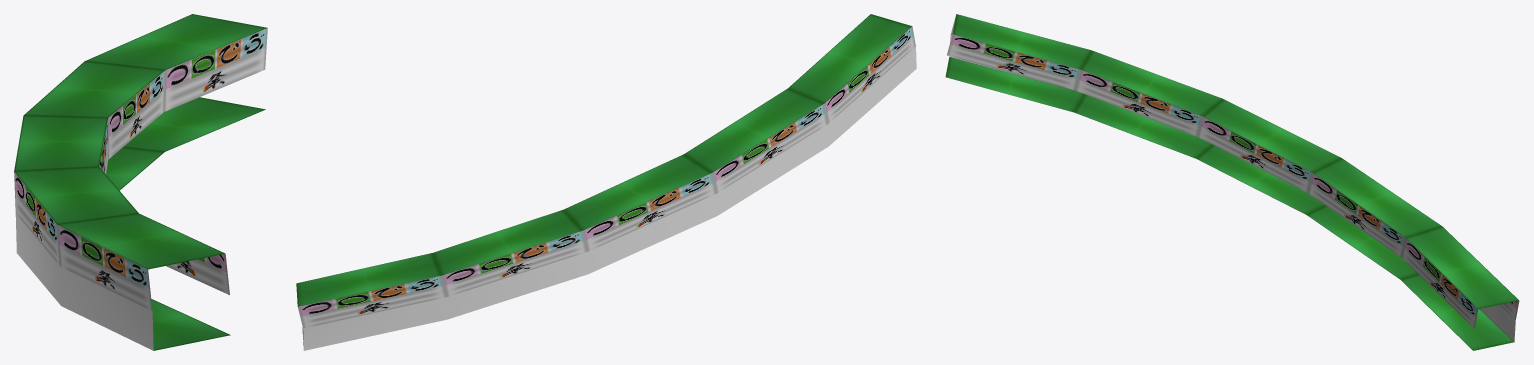
File: Walls_4.fbx
3 renders of one model, left to right at view 1: azimuth 30°, elevation 25°; view 2: azimuth 150°, elevation 25°; view 3: azimuth 270°, elevation 25°, orthographic. The views are drawn at different scales.
Visible parts, largest first — view 1: polySurface90; view 2: polySurface90; view 3: polySurface90.
Boxes of the visible parts, box(x1,y1,x2,y2) form: polySurface90: box(14, 14, 267, 350); polySurface90: box(296, 14, 916, 350); polySurface90: box(945, 14, 1519, 350).
Bounding box in the file's own units: 15.69 × 8.22 × 23.71.
